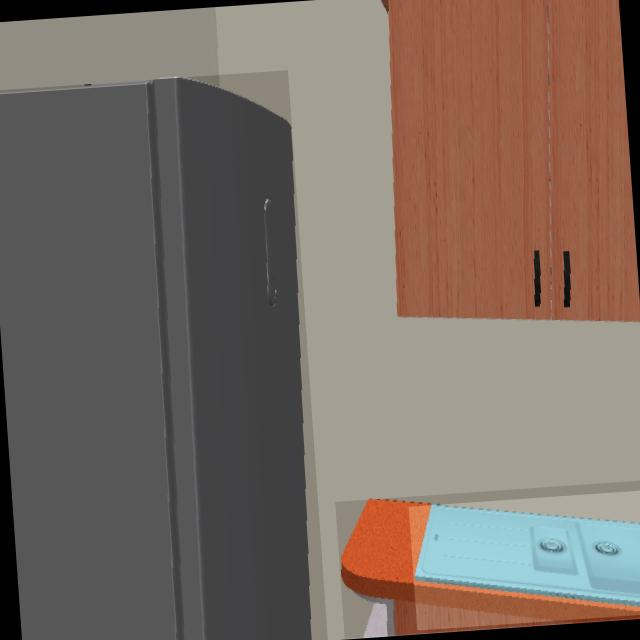cabinet: (382, 0, 640, 323)
countertop: (339, 499, 640, 633)
fridge: (0, 78, 314, 640)
sink: (413, 505, 640, 604)
